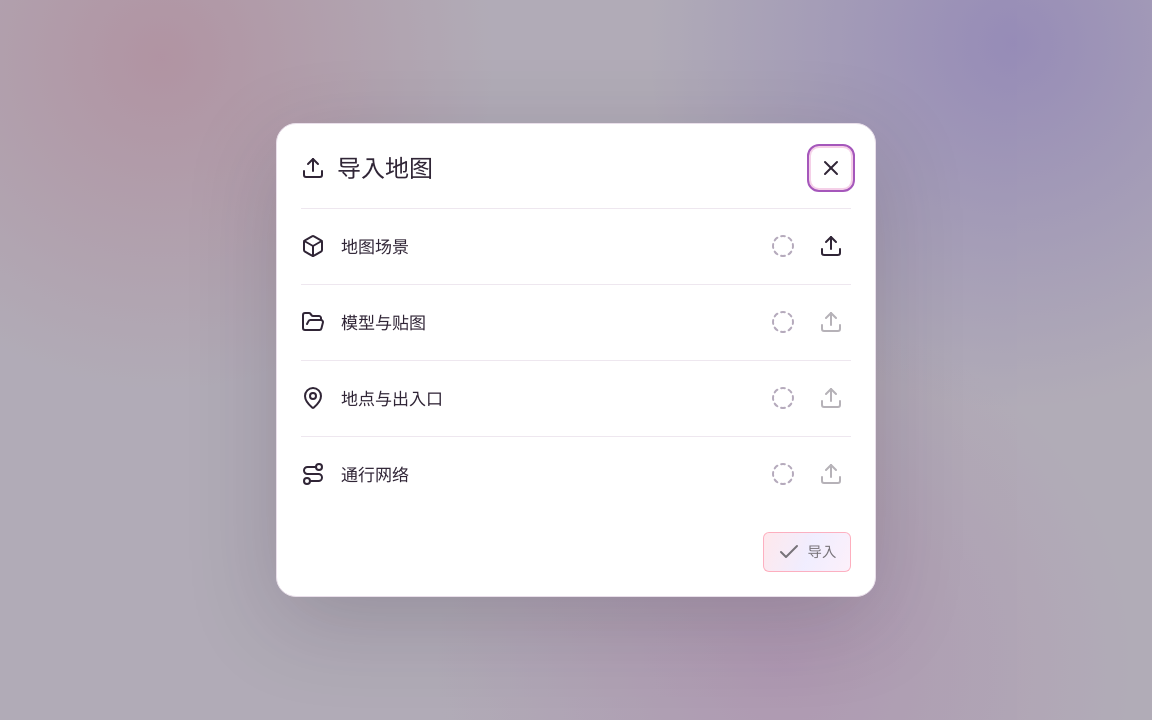
it: map upload dialog › opens the checklist without opening a file picker; checks only a completed upload
Expected: the number of messages is 4, [771, 234, 795, 258]; [771, 310, 795, 334]; [771, 386, 795, 410]; [771, 462, 795, 486]
Expected: the button "导入" is disabled, [763, 532, 851, 572]
Click the button named "上传 地图场景".
click(831, 246)  # box [811, 226, 851, 266]
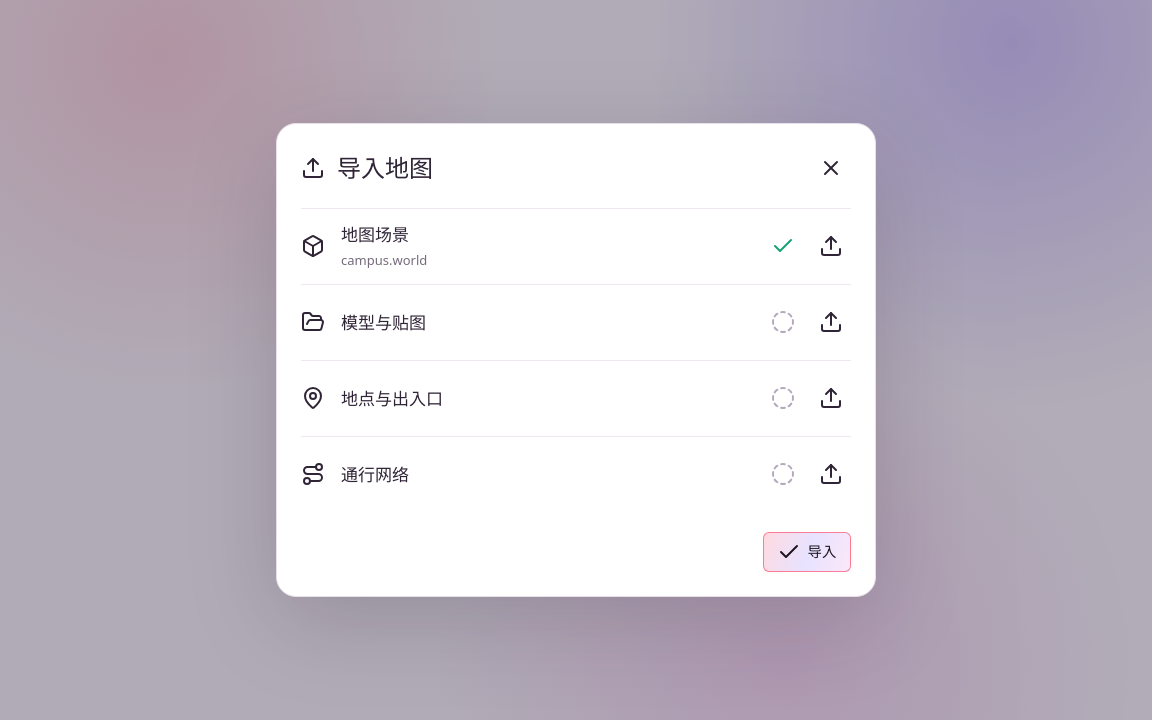
Result: the message named "地图场景 · 已上传" is shown at [771, 234, 795, 258]
Result: the button "导入" is enabled at [763, 532, 851, 572]
